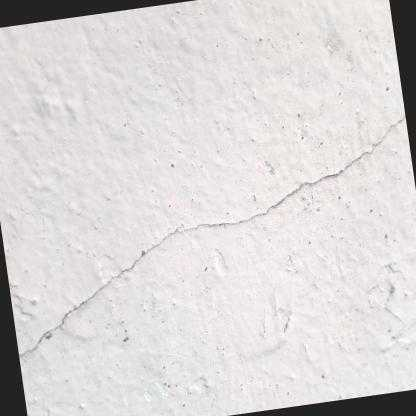crack: (18, 109, 406, 360)
